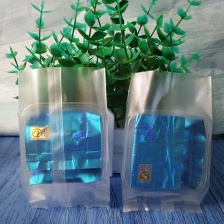snack: (11, 59, 119, 212), (114, 62, 217, 219)
